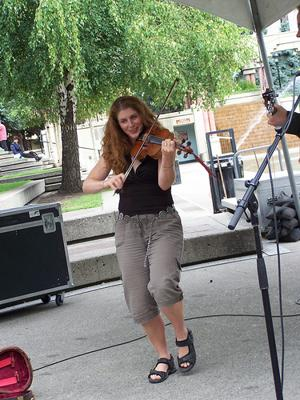person: (82, 97, 193, 382)
